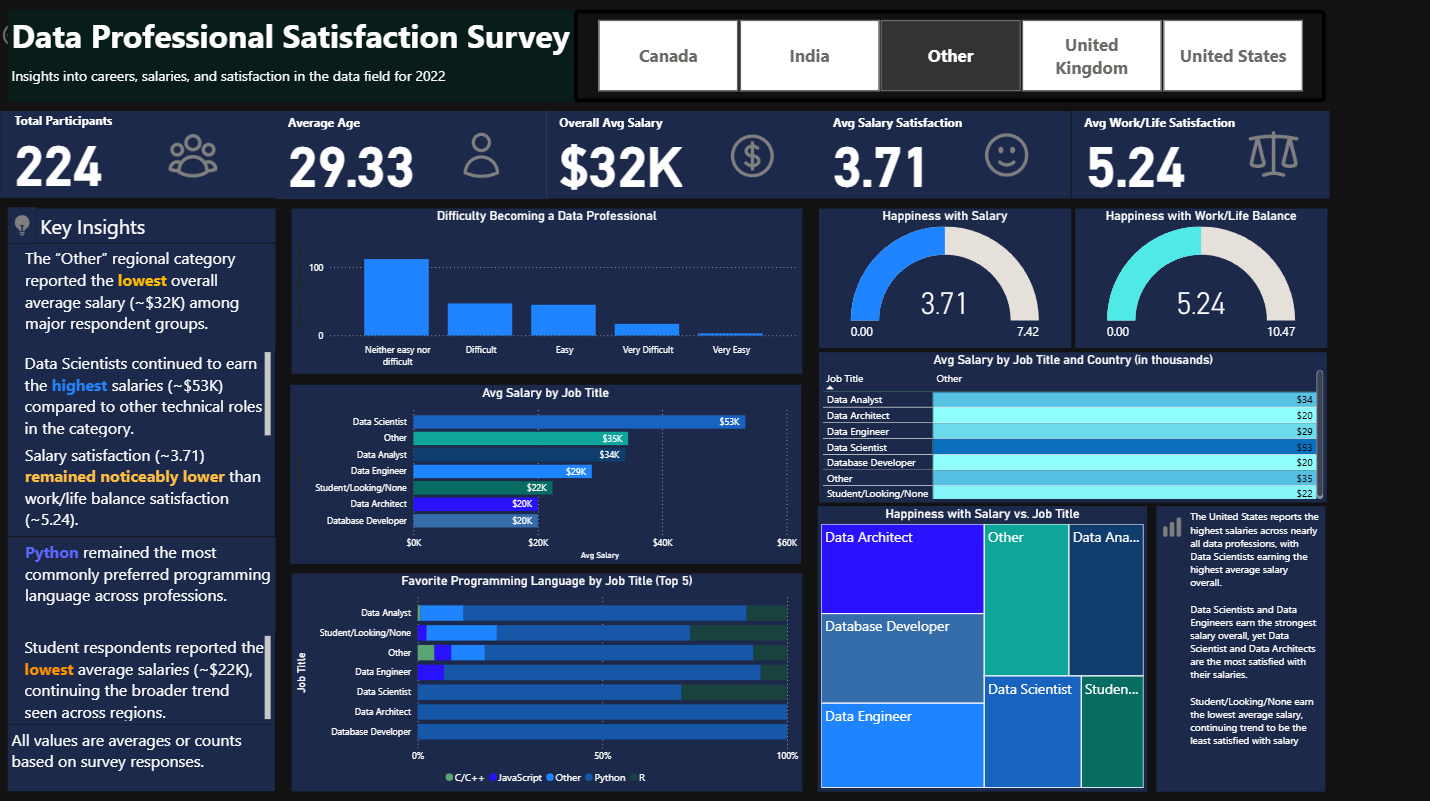

What the dashboard file says about the page in this screenshot:
{"tool":"powerbi","page":{"name":"Other","canvas":[1920,1080],"ordinal":3},"visuals":[{"type":"cardVisual","fields":{"Data":["Data Professional Survey.Total Participants"]},"box":[1.6,153.9,371,115.8],"z":0,"group":"g6"},{"type":"group","id":"g1","title":"Group 3","box":[369.2,153.9,363.7,117.6],"z":0},{"type":"cardVisual","fields":{"Data":["Data Professional Survey.Average Age"]},"box":[369.2,153.9,363.7,117.6],"z":1000,"group":"g1"},{"type":"image","box":[178.2,170.2,161,84.5],"z":1000,"group":"g6"},{"type":"gauge","fields":{"Y":["Data Professional Survey.Avg Salary Satisfaction"]},"box":[1094.8,284.1,336.6,186.4],"z":1000},{"type":"group","id":"g2","title":"Group 4","box":[732.1,153.9,365.6,117.1],"z":2000},{"type":"cardVisual","fields":{"Data":["Data Professional Survey.Overall Avg Salary"]},"box":[732.1,153.9,365.6,117.1],"z":2000,"group":"g2"},{"type":"gauge","fields":{"Y":["Data Professional Survey.Avg WorkLife Satisfaction"]},"box":[1436.9,284.1,336.6,186.4],"z":3000},{"type":"group","id":"g3","title":"Group 5","box":[1097.7,153.9,334.5,117.1],"z":4000},{"type":"actionButton","box":[0,31,100,41],"z":5000},{"type":"cardVisual","fields":{"Data":["Data Professional Survey.Avg Salary Satisfaction"]},"box":[1097.7,153.9,334.5,117.1],"z":6000,"group":"g3"},{"type":"group","id":"g4","title":"Group 6","box":[1432.2,153.9,344.9,117.1],"z":6000},{"type":"pivotTable","title":"Avg Salary by Job Title and Country (in thousands)","fields":{"Rows":["Data Professional Survey.Job Title"],"Columns":["Data Professional Survey.Country"],"Values":["Avg(Data Professional Survey.Average Salary)"]},"box":[1094.8,475.9,678.6,200.9],"z":7000},{"type":"treemap","title":"Happiness with Salary vs. Job Title","fields":{"Values":["Avg(Data Professional Survey.Q6 - How Happy are you in your Current Position with the following? (Salary))"],"Group":["Data Professional Survey.Job Title"]},"box":[1093.2,680.5,440.2,381.5],"z":8000},{"type":"cardVisual","fields":{"Data":["Data Professional Survey.Avg WorkLife Satisfaction"]},"box":[1432.2,153.9,344.9,117.1],"z":9000,"group":"g4"},{"type":"textbox","box":[49.5,284.3,319.2,45.9],"z":9000},{"type":"barChart","title":"Avg Salary by Job Title","fields":{"Category":["Data Professional Survey.Job Title"],"Y":["Data Professional Survey.Overall Avg Salary"],"Series":["Data Professional Survey.Job Title"]},"box":[389.1,519.4,682.2,238.9],"z":10000},{"type":"clusteredColumnChart","title":"Difficulty Becoming a Data Professional","fields":{"Category":["Data Professional Survey.Q7 - How difficult was it for you to break into Data?"],"Y":["CountNonNull(Data Professional Survey.Unique ID)"]},"box":[390.9,284.1,682.2,220.8],"z":11000},{"type":"hundredPercentStackedBarChart","title":"Favorite Programming Language by Job Title (Top 5)","fields":{"Series":["Data Professional Survey.Q5 - Favorite Programming Language.1"],"Category":["Data Professional Survey.Job Title"],"Y":["CountNonNull(Data Professional Survey.Unique ID)"]},"box":[390.9,770.9,682.2,291.4],"z":12000},{"type":"textbox","box":[10.9,850.5,356.5,123.1],"z":13000},{"type":"textbox","box":[10.9,470.5,356.5,123.1],"z":14000},{"type":"textbox","box":[1546.3,680.5,225.6,381.5],"z":14000,"group":"g5"},{"type":"textbox","box":[10.9,18.1,756.4,70.6],"z":15000},{"type":"textbox","box":[10.9,88.7,756.4,52.5],"z":16000},{"type":"slicer","fields":{"Values":["Data Professional Survey.Country"]},"box":[767.3,18.1,1004.4,123.1],"z":17000},{"type":"textbox","box":[11,330.2,357.7,143.1],"z":18000},{"type":"textbox","box":[10.9,593.6,356.5,128.5],"z":19000},{"type":"textbox","box":[11,722.7,357.7,128.4],"z":20000},{"type":"textbox","box":[10.9,973.6,356.5,88.7],"z":21000},{"type":"image","box":[11,282.5,38.5,47.7],"z":22000},{"type":"group","id":"g5","title":"Group 1","box":[1546.3,680.5,225.6,381.5],"z":23000},{"type":"group","id":"g6","title":"Group 2","box":[1.6,153.9,371,115.8],"z":24000},{"type":"image","box":[583.4,174.7,123.4,79],"z":25000,"group":"g1"},{"type":"image","box":[937.5,173.2,139.4,79.9],"z":26000,"group":"g2"},{"type":"image","box":[1286.1,171.9,121.1,81.3],"z":27000,"group":"g3"},{"type":"image","box":[1641.9,169.2,119.2,85.3],"z":28000,"group":"g4"},{"type":"image","box":[1546.3,685.8,42.2,46.4],"z":30000,"group":"g5"}]}

Visuals, with their boxes in screenshot pixels (x1, y1, x2, y2), scaled from the page's 1920x1080 canvas onto the 1430x801 screenshot:
cardVisual - Data Professional Survey.Total Participants: bbox=(1, 114, 278, 200)
"Group 3" group: bbox=(275, 114, 546, 201)
cardVisual - Data Professional Survey.Average Age: bbox=(275, 114, 546, 201)
image: bbox=(133, 126, 253, 189)
gauge - Data Professional Survey.Avg Salary Satisfaction: bbox=(815, 211, 1066, 349)
"Group 4" group: bbox=(545, 114, 818, 201)
cardVisual - Data Professional Survey.Overall Avg Salary: bbox=(545, 114, 818, 201)
gauge - Data Professional Survey.Avg WorkLife Satisfaction: bbox=(1070, 211, 1321, 349)
"Group 5" group: bbox=(818, 114, 1067, 201)
actionButton: bbox=(0, 23, 74, 53)
cardVisual - Data Professional Survey.Avg Salary Satisfaction: bbox=(818, 114, 1067, 201)
"Group 6" group: bbox=(1067, 114, 1324, 201)
"Avg Salary by Job Title and Country (in thousands)" pivotTable: bbox=(815, 353, 1321, 502)
"Happiness with Salary vs. Job Title" treemap: bbox=(814, 505, 1142, 788)
cardVisual - Data Professional Survey.Avg WorkLife Satisfaction: bbox=(1067, 114, 1324, 201)
textbox: bbox=(37, 211, 275, 245)
"Avg Salary by Job Title" barChart: bbox=(290, 385, 798, 562)
"Difficulty Becoming a Data Professional" clusteredColumnChart: bbox=(291, 211, 799, 374)
"Favorite Programming Language by Job Title (Top 5)" hundredPercentStackedBarChart: bbox=(291, 572, 799, 788)
textbox: bbox=(8, 631, 274, 722)
textbox: bbox=(8, 349, 274, 440)
textbox: bbox=(1152, 505, 1320, 788)
textbox: bbox=(8, 13, 571, 66)
textbox: bbox=(8, 66, 571, 105)
slicer - Data Professional Survey.Country: bbox=(571, 13, 1320, 105)
textbox: bbox=(8, 245, 275, 351)
textbox: bbox=(8, 440, 274, 536)
textbox: bbox=(8, 536, 275, 631)
textbox: bbox=(8, 722, 274, 788)
image: bbox=(8, 210, 37, 245)
"Group 1" group: bbox=(1152, 505, 1320, 788)
"Group 2" group: bbox=(1, 114, 278, 200)
image: bbox=(435, 130, 526, 188)
image: bbox=(698, 128, 802, 188)
image: bbox=(958, 127, 1048, 188)
image: bbox=(1223, 125, 1312, 189)
image: bbox=(1152, 509, 1183, 543)
